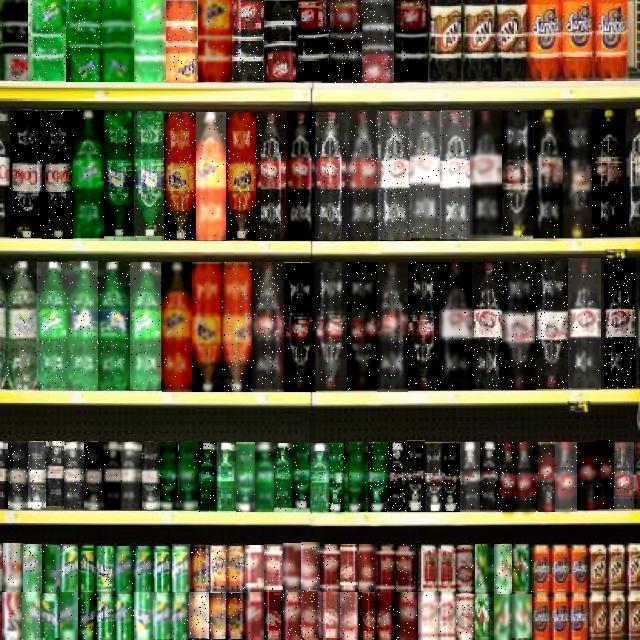Drinks: (346, 110, 380, 241), (252, 262, 286, 392), (502, 261, 536, 390), (568, 258, 601, 390), (592, 109, 626, 237), (314, 262, 348, 390), (10, 110, 44, 238), (221, 262, 254, 392), (378, 111, 411, 240), (472, 261, 505, 390), (535, 260, 568, 389), (315, 112, 348, 240), (439, 262, 472, 390), (284, 262, 316, 392), (604, 258, 636, 388), (440, 110, 472, 239), (134, 112, 166, 240), (164, 112, 196, 240), (470, 112, 502, 240), (98, 262, 130, 390), (408, 262, 440, 390), (192, 262, 223, 392), (377, 262, 408, 392), (42, 110, 73, 239), (7, 261, 38, 390), (73, 111, 104, 239), (410, 112, 441, 240), (502, 112, 533, 240), (563, 110, 594, 238), (37, 262, 68, 390), (130, 262, 161, 390), (347, 262, 378, 390), (162, 262, 192, 392), (286, 111, 316, 240), (68, 261, 98, 390), (104, 112, 134, 240), (196, 112, 226, 240), (226, 112, 256, 240), (256, 112, 286, 240), (534, 110, 564, 238), (66, 0, 102, 82), (31, 0, 67, 80), (361, 0, 395, 83), (296, 0, 330, 83), (395, 1, 429, 83), (264, 0, 298, 82), (199, 0, 233, 82), (132, 0, 166, 82), (100, 0, 134, 82), (329, 0, 362, 83), (232, 1, 265, 83), (165, 0, 198, 82), (0, 0, 28, 80), (555, 442, 577, 512), (460, 442, 480, 512), (499, 442, 519, 512), (518, 442, 538, 512), (9, 441, 29, 510), (310, 443, 330, 512), (65, 442, 85, 510), (84, 442, 104, 510), (103, 442, 123, 510), (122, 442, 142, 510), (216, 442, 236, 510), (577, 442, 597, 510), (614, 442, 634, 510), (198, 442, 217, 512), (236, 442, 255, 512), (255, 442, 274, 512), (368, 442, 387, 512), (596, 440, 615, 509), (407, 440, 425, 512), (46, 442, 65, 510), (179, 442, 198, 510), (292, 444, 311, 512), (350, 442, 368, 512), (388, 442, 406, 512), (425, 442, 443, 512), (443, 442, 461, 512), (480, 442, 498, 512), (538, 442, 556, 512), (28, 441, 46, 510), (330, 443, 348, 512), (142, 442, 160, 510), (160, 442, 178, 510), (274, 444, 292, 512), (320, 593, 342, 639), (513, 544, 533, 594), (3, 592, 23, 640), (114, 546, 134, 594), (133, 546, 153, 594), (134, 592, 154, 640), (190, 545, 210, 593), (302, 542, 322, 590), (264, 592, 284, 640), (302, 592, 322, 640), (340, 592, 360, 640), (359, 592, 379, 640), (378, 592, 398, 640), (397, 592, 417, 640), (437, 592, 457, 640), (419, 592, 439, 640), (3, 544, 23, 592), (23, 544, 42, 593), (115, 594, 135, 640), (190, 593, 210, 639), (189, 593, 209, 639), (226, 546, 246, 592), (226, 593, 246, 639), (264, 545, 284, 591), (456, 594, 476, 640), (22, 592, 41, 640), (78, 545, 97, 593), (78, 592, 97, 640), (153, 546, 172, 594), (172, 545, 191, 593), (208, 545, 227, 593), (283, 544, 302, 592), (245, 592, 264, 640), (283, 592, 302, 640), (476, 544, 494, 594), (494, 544, 512, 594), (40, 594, 60, 638), (513, 594, 533, 638), (96, 546, 115, 592), (96, 593, 115, 639), (153, 593, 172, 639), (172, 593, 191, 639), (209, 593, 228, 639), (245, 546, 264, 592), (42, 545, 60, 593), (60, 545, 78, 593), (60, 592, 78, 640), (322, 545, 340, 593), (340, 545, 358, 593), (360, 545, 378, 593), (378, 545, 396, 593), (397, 545, 415, 593), (457, 545, 475, 593), (476, 594, 494, 640), (494, 594, 512, 640)
